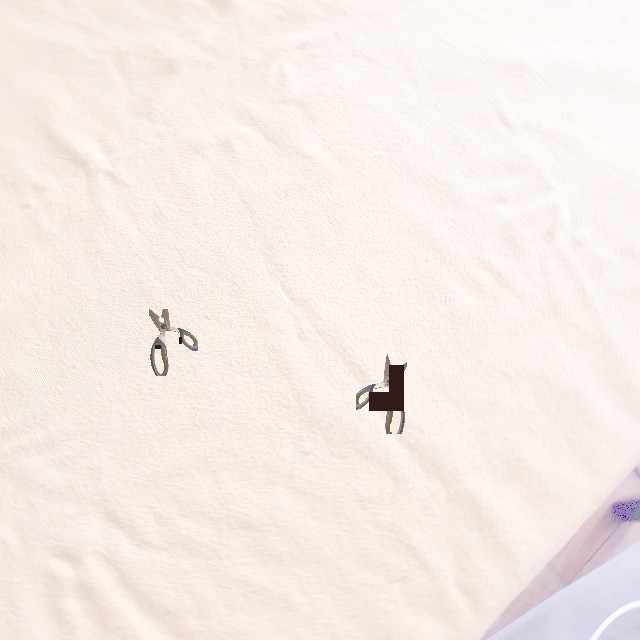scissors: (356, 354, 407, 434), (149, 309, 198, 376)
